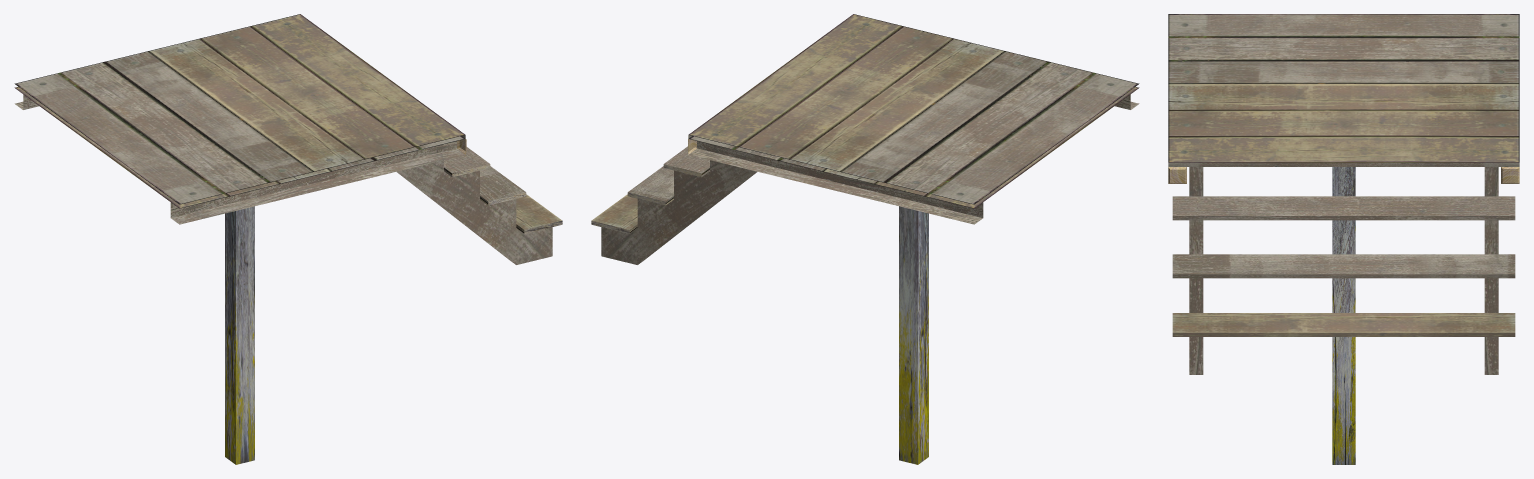
The model's file is dock-steps.dae.
The picture shows the model from 3 angles, left to right: view 1: azimuth 30°, elevation 25°; view 2: azimuth 150°, elevation 25°; view 3: azimuth 270°, elevation 25°; orthographic projection. The views are drawn at different scales.
Parts seen in each view (by area): view 1: dock_001; view 2: dock_001; view 3: dock_001.
Part boxes in pixels (x1,y1,x2,y2): dock_001: (14, 14, 562, 464); dock_001: (591, 14, 1139, 464); dock_001: (1168, 14, 1519, 464).
Size of the model in its own units: 20.19 by 15 by 17.5.
Materials: 1 (1 with a texture image).
